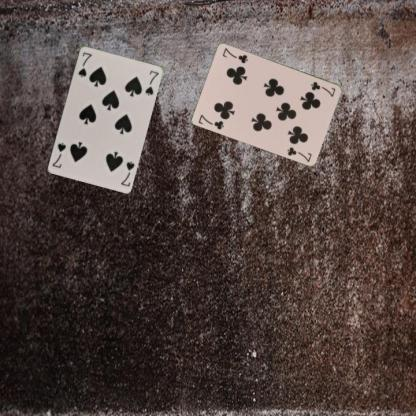7c: (308, 79, 337, 98), (196, 112, 225, 130)
7s: (118, 158, 136, 188), (76, 49, 93, 79)
